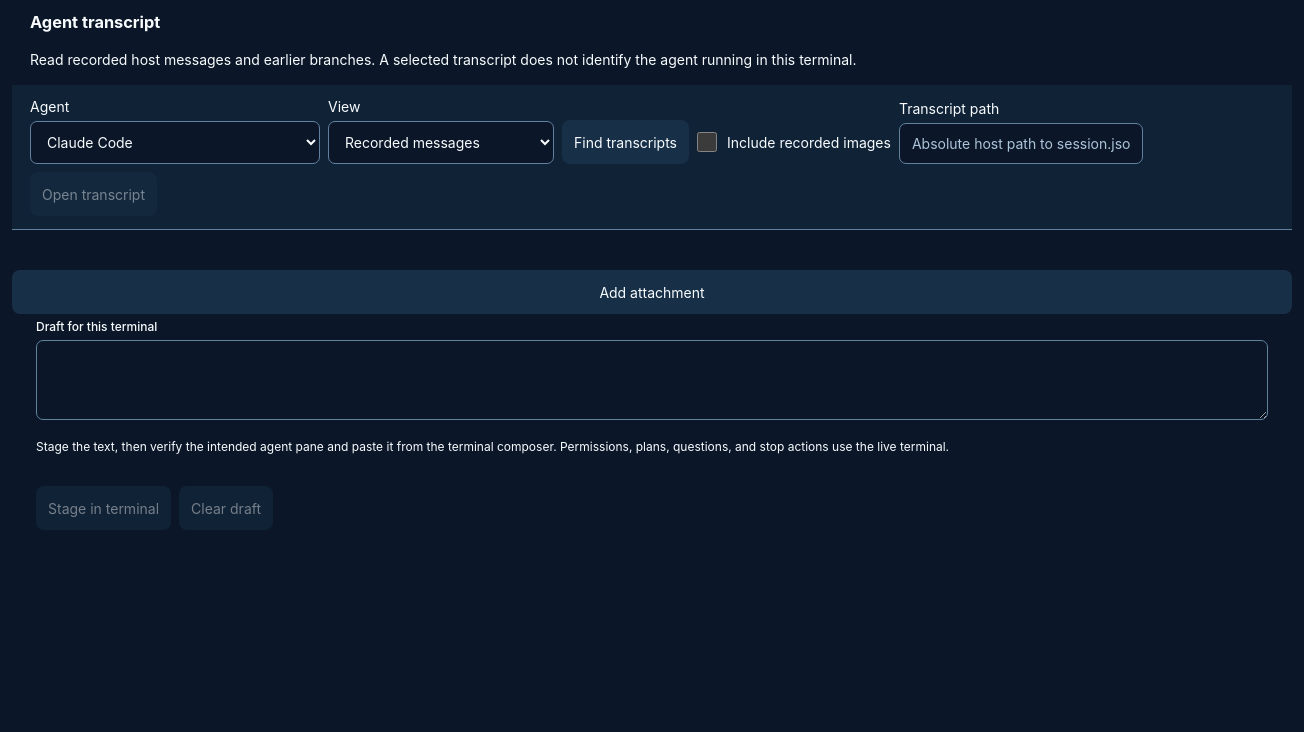
Test case: admits Pi recorded tool errors only on tool result records, preserving raw output without live actions
Select "Pi" in the dropdown labelled "Agent" at (175, 143), box [30,122,320,164]
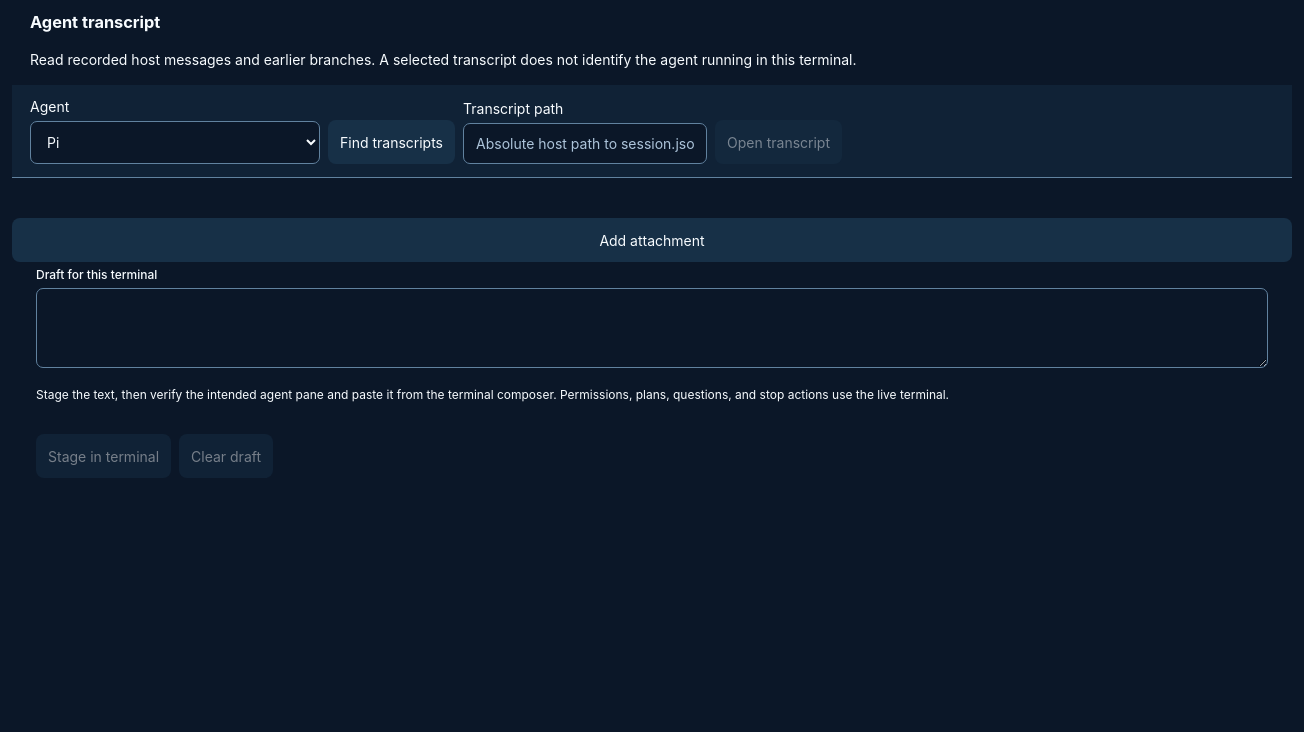
Type "/owned/pi.jsonl" into the field labelled "Transcript path" at (585, 144), box [463,124,707,164]
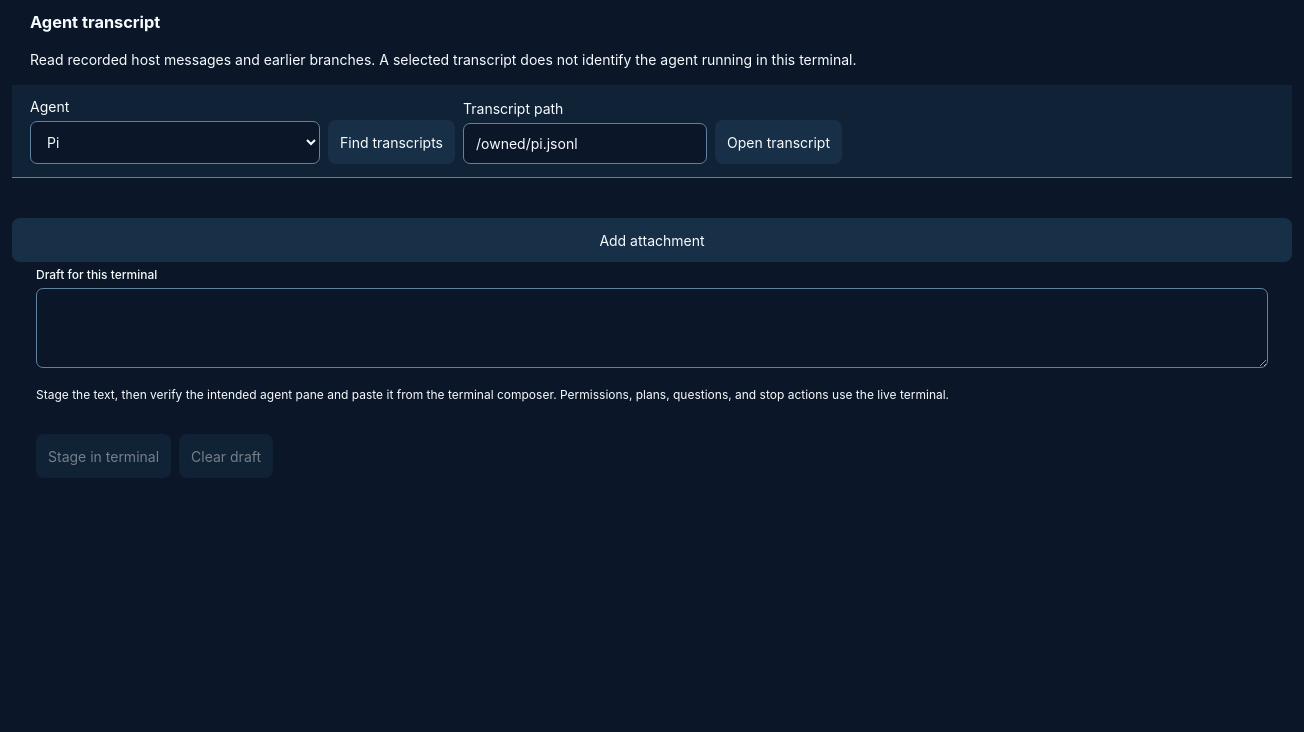
Click the button "Open transcript" at (778, 142), box [715,120,842,164]
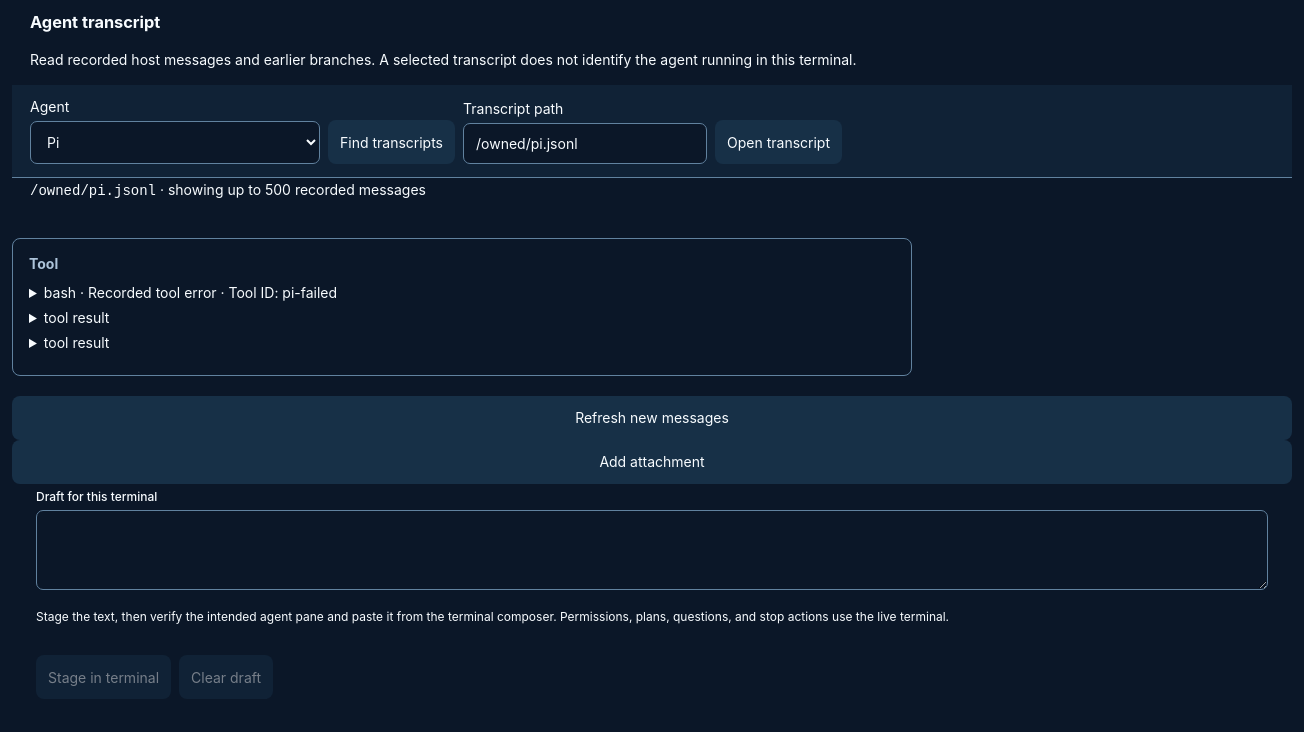
Check: the number of headings "bash · Recorded tool error · Tool ID: pi-failed" is 1, box [44,284,337,301]
